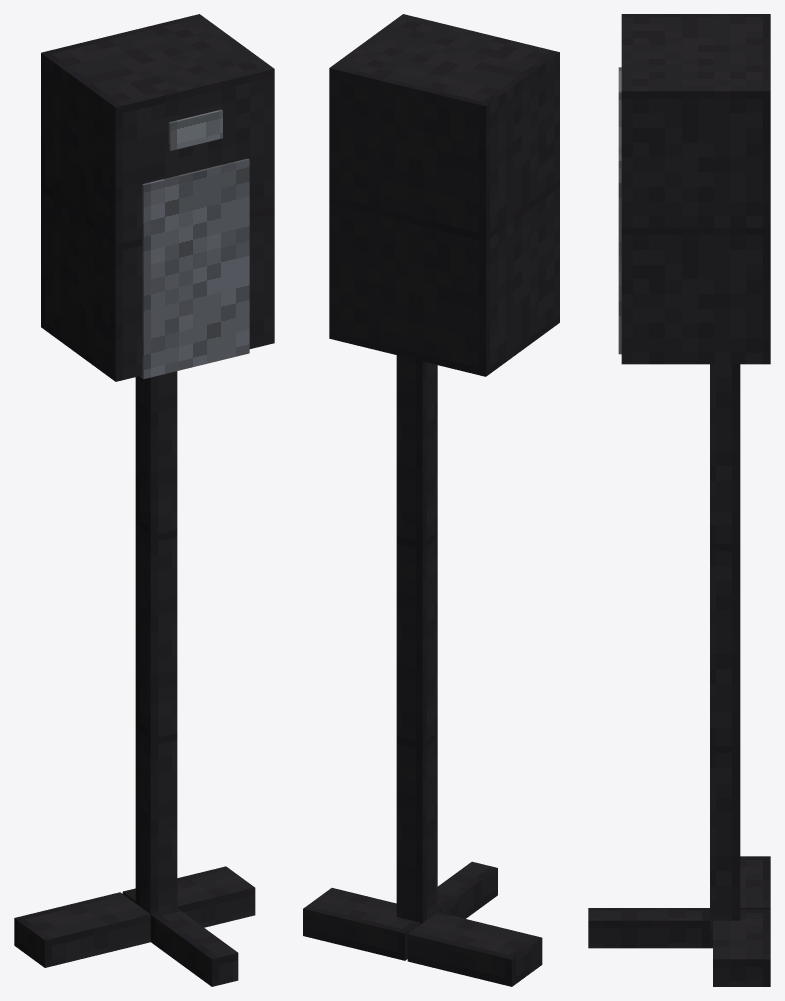
The model's file is paSpeakerPole.glb.
The picture shows the model from 3 angles, left to right: view 1: azimuth 30°, elevation 25°; view 2: azimuth 150°, elevation 25°; view 3: azimuth 270°, elevation 25°; orthographic projection.
Visible parts, largest first — view 1: paSpeakerPole_0; view 2: paSpeakerPole_0; view 3: paSpeakerPole_0.
Part boxes in pixels (x1,y1,x2,y2): paSpeakerPole_0: (14, 14, 274, 986); paSpeakerPole_0: (303, 14, 559, 986); paSpeakerPole_0: (588, 14, 770, 986).
Size of the model in its own units: 0.5 by 2 by 0.375.
Materials: 1 (1 with a texture image).
